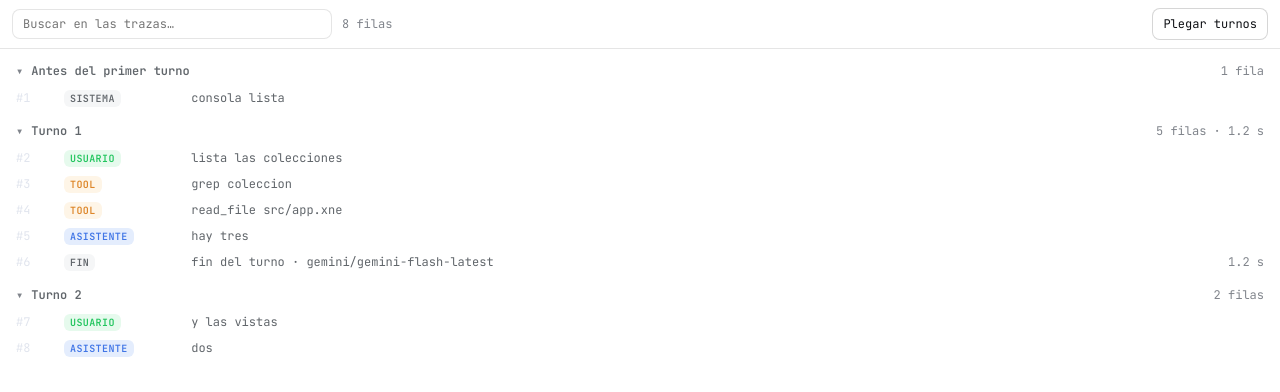
Test: Trazas › elegir una fila abre el detalle con el texto entero, y el tiempo solo si lo hay
Click the button "#5 ASISTENTE hay tres" at (99, 236), box [8,223,1272,249]
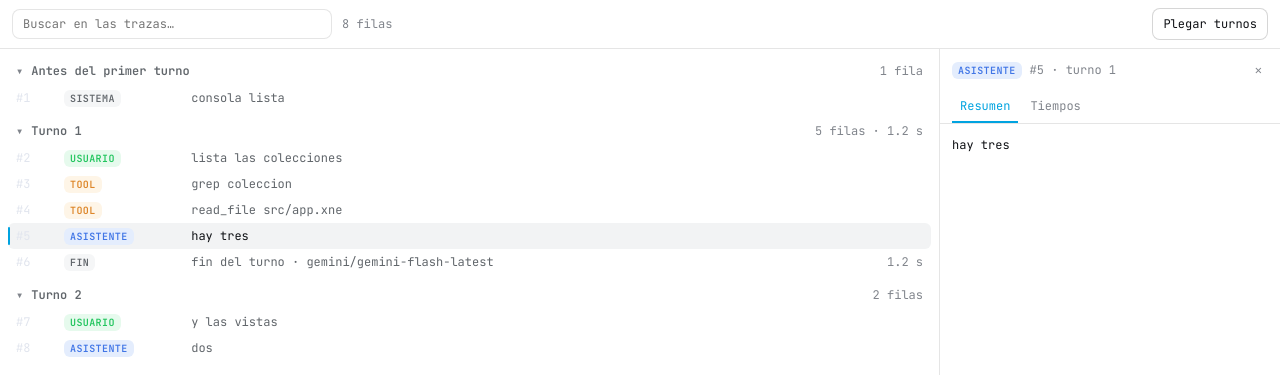
Click the tab "Tiempos" at (1056, 107), box [1022,91,1089,123]
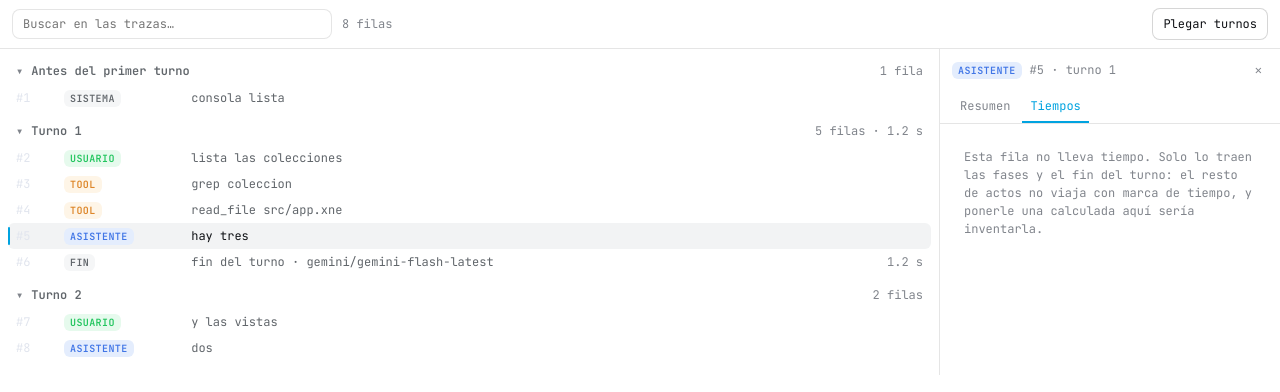
Check: the text "no lleva tiempo" is shown, box [964,149,1252,237]
